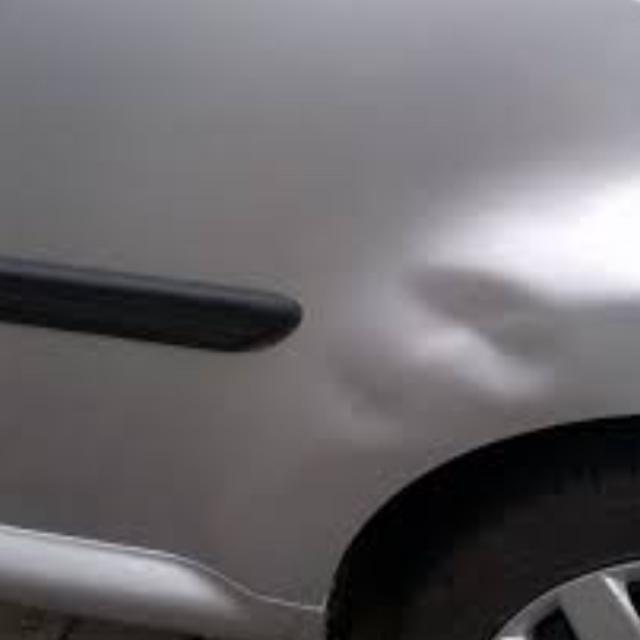dents: (416, 275, 632, 399), (309, 357, 414, 478)
